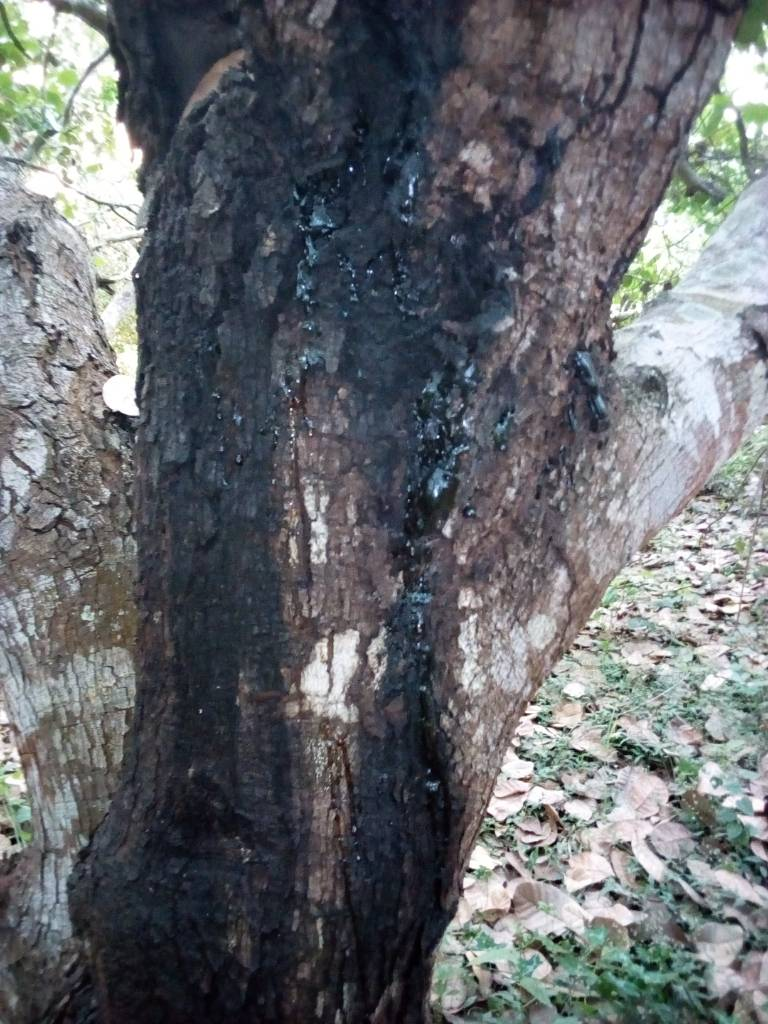Mecocorynus longiceps: (356, 355, 524, 619), (251, 109, 473, 306)
